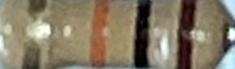Black: (130, 0, 155, 69)
Brown: (174, 0, 199, 69)
Orange: (86, 0, 112, 69)
Side-Gold: (22, 2, 52, 68)
